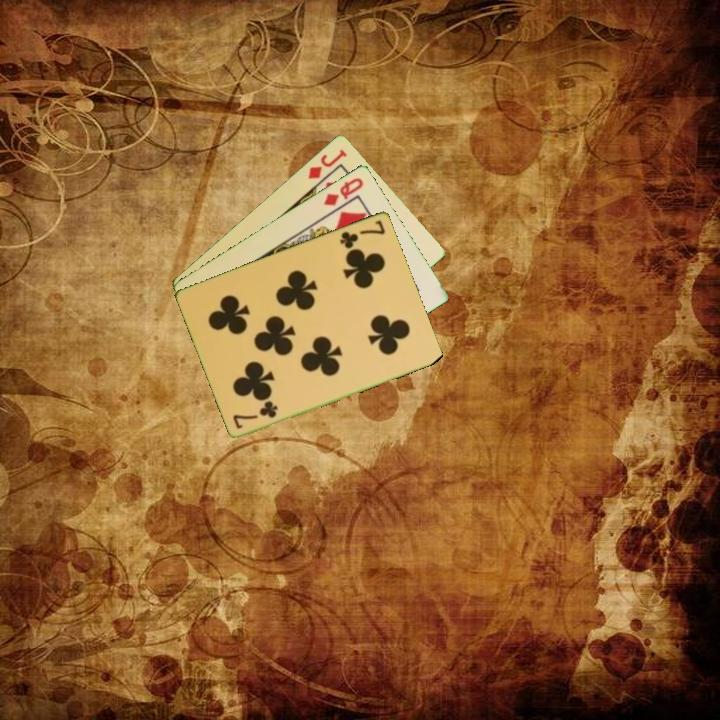7c: (336, 216, 388, 251), (230, 398, 281, 431)
Jd: (304, 145, 350, 182)
Qd: (320, 174, 366, 209)
